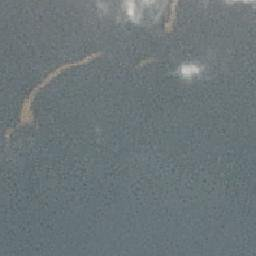cloud: (97, 1, 163, 25), (172, 58, 208, 81)
debris: (18, 90, 36, 129), (63, 53, 96, 69), (166, 5, 177, 34), (35, 68, 46, 92), (49, 61, 59, 81)
